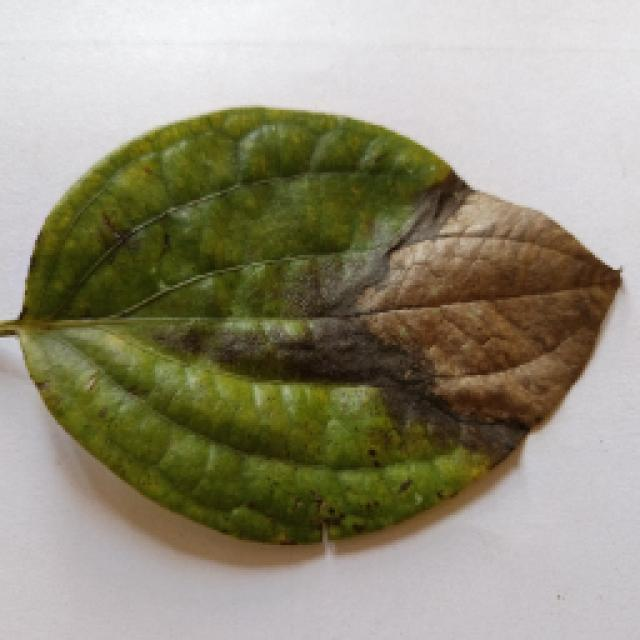footrot: (2, 105, 612, 537)
